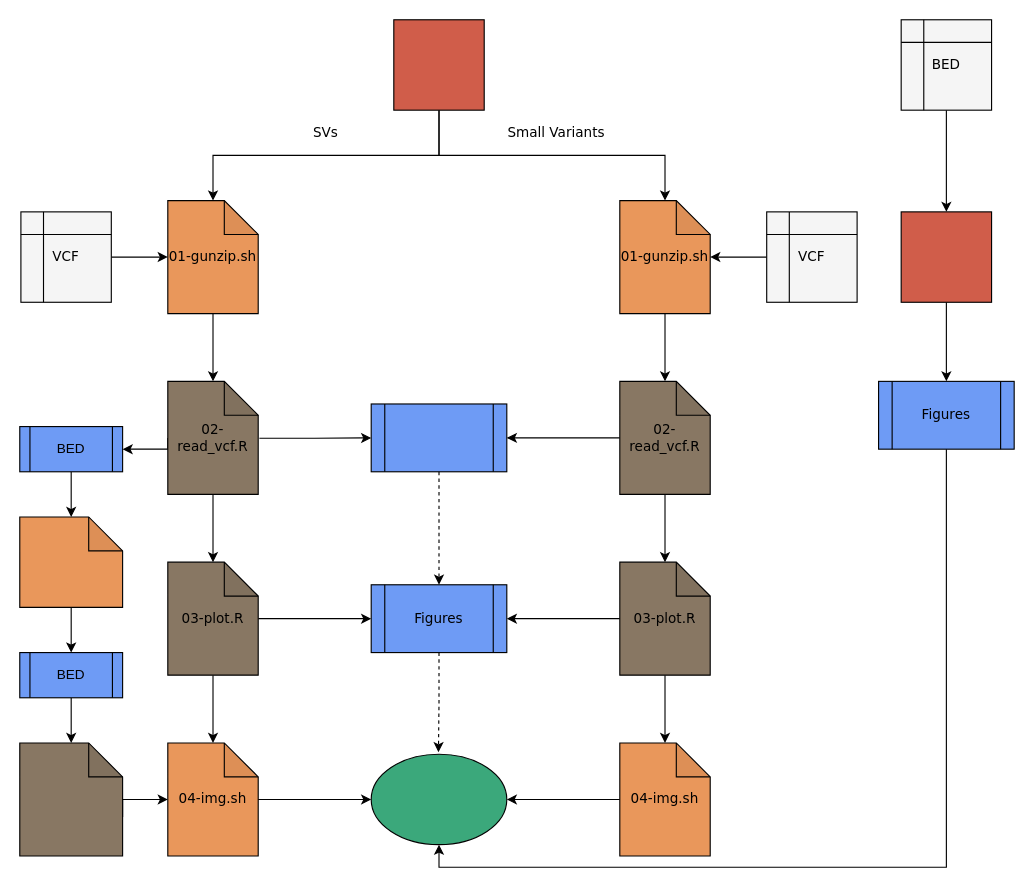
The diagram is 1034 pixels wide and 896 high, and some of its shapes have lost their labels. The box of each missing label's shape, as (x1, y1, x2, y2) in pixels:
bed_man.sh: (900, 211, 992, 302)
bedtools.sh: (19, 516, 123, 607)
Rcircos.R: (19, 742, 123, 856)
Report: (370, 753, 507, 845)
Tables, summaries, BED: (370, 403, 507, 472)
vcfMAN.sh: (393, 19, 484, 110)
